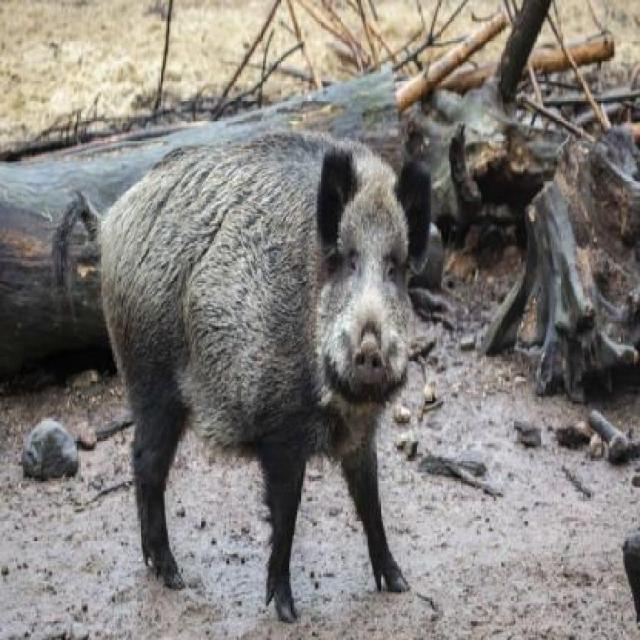wildboar: (55, 124, 434, 624)
